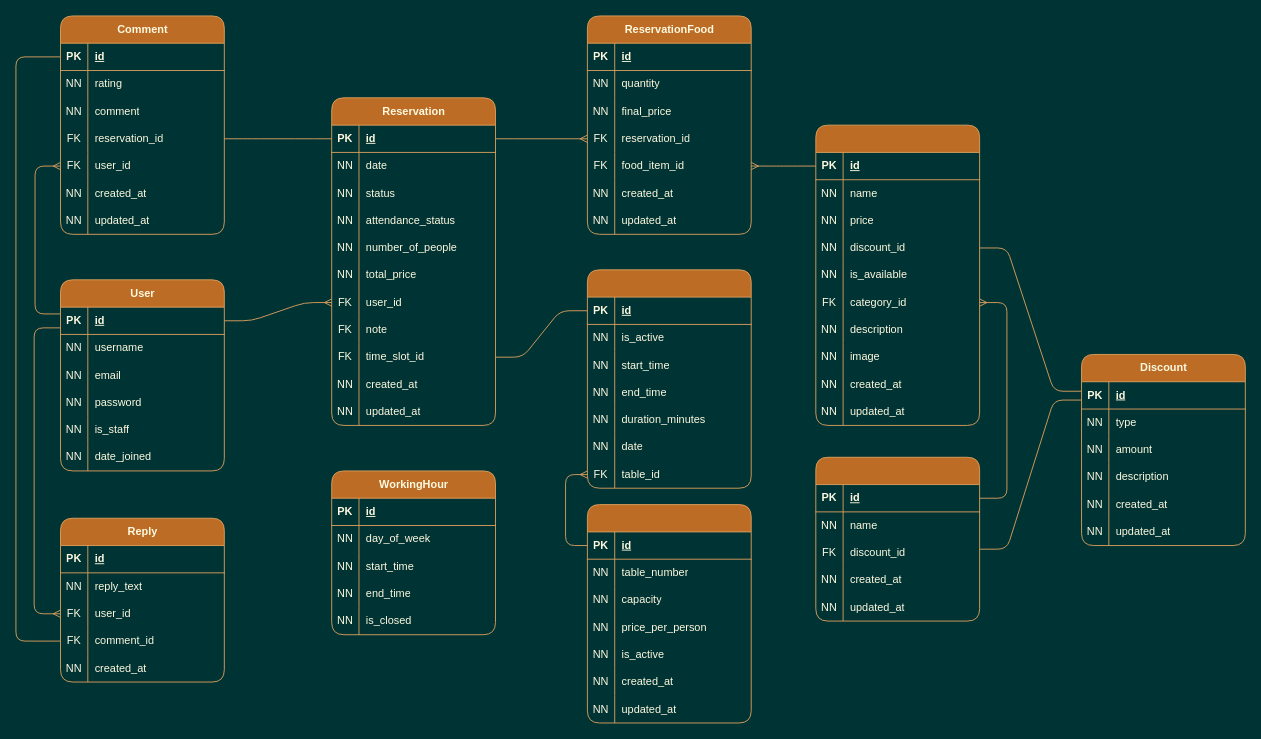
Image size: 1261x739. Some labels were removed from this diagram. Each missing label, with the box of its shape:
CafeTable: (586, 504, 751, 723)
Category: (815, 456, 980, 621)
FoodItem: (815, 124, 980, 425)
TimeSlot: (586, 269, 751, 488)
